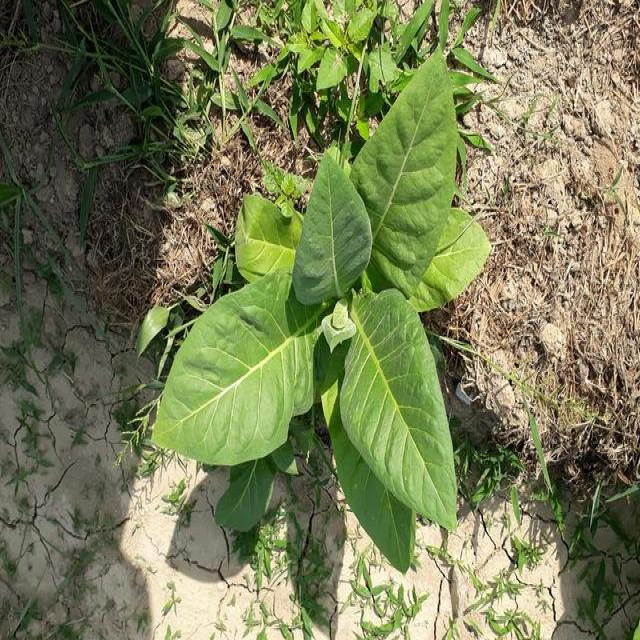crop: (159, 41, 492, 578)
